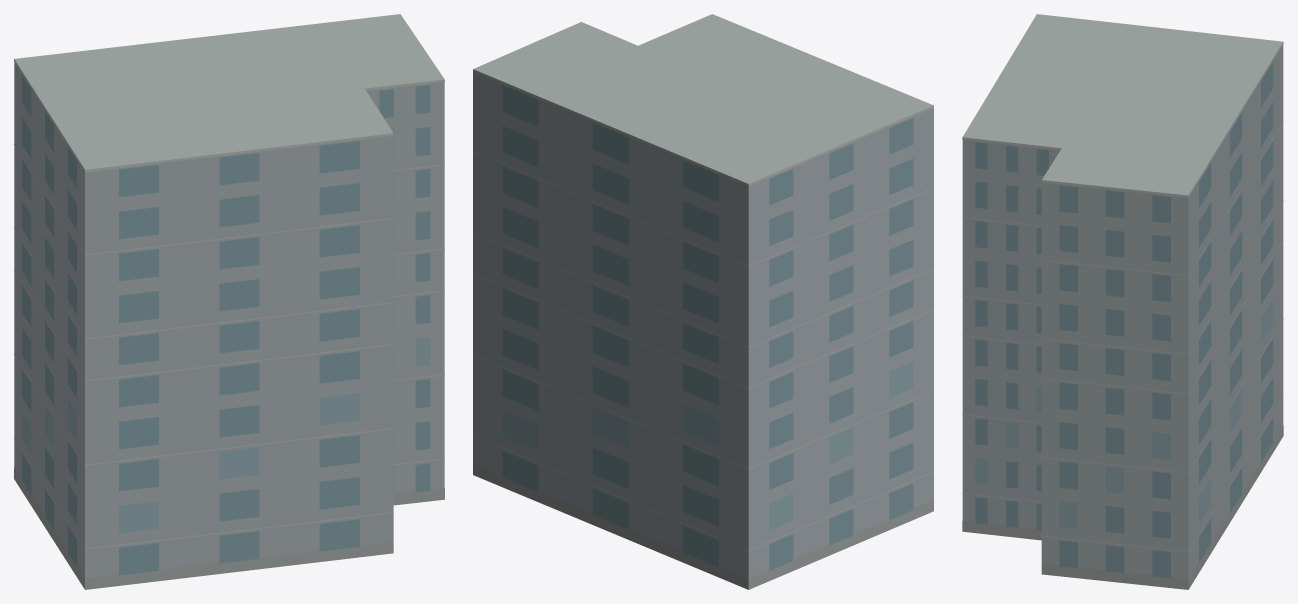
File: survey-upis-32746139.glb
The picture shows the model from 3 angles, left to right: view 1: azimuth 30°, elevation 25°; view 2: azimuth 150°, elevation 25°; view 3: azimuth 270°, elevation 25°; orthographic projection. The views are drawn at different scales.
Visible parts, largest first — view 1: survey-upis-32746139.tmp; view 2: survey-upis-32746139.tmp; view 3: survey-upis-32746139.tmp.
Boxes of the visible parts, x1=… form: survey-upis-32746139.tmp: x1=14, y1=14, x2=444, y2=589; survey-upis-32746139.tmp: x1=473, y1=14, x2=933, y2=589; survey-upis-32746139.tmp: x1=962, y1=14, x2=1283, y2=589.
Bounding box in the file's own units: 41.28 × 41.8 × 30.85.
